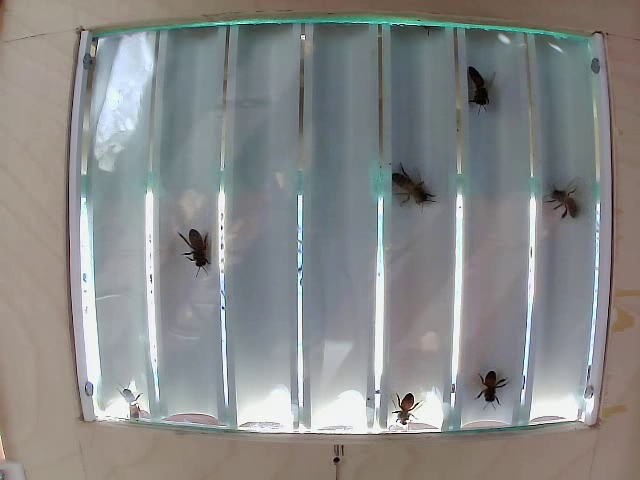bee: (173, 227, 214, 275), (459, 64, 495, 106), (544, 180, 582, 217), (395, 159, 425, 198), (476, 366, 499, 412), (396, 395, 424, 419)
